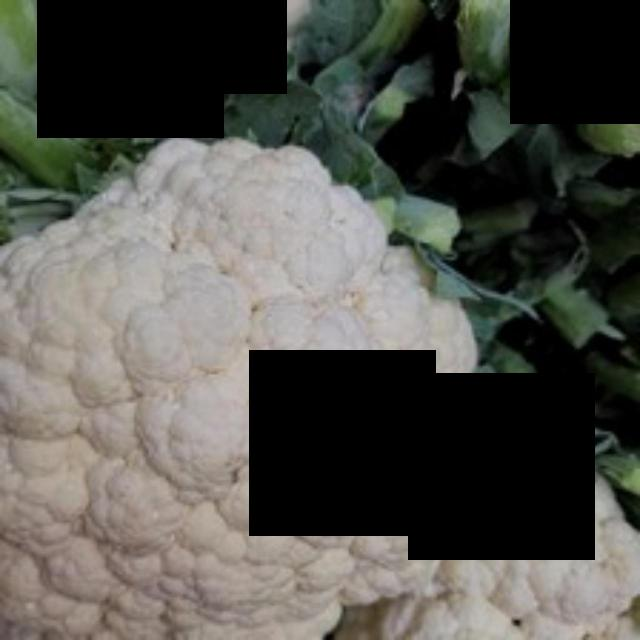cauliflower: (0, 125, 482, 636)
